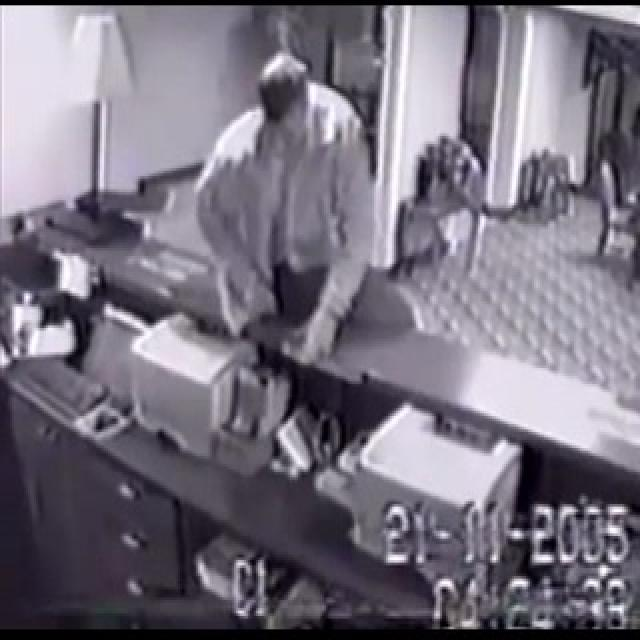thief: (174, 76, 430, 381)
